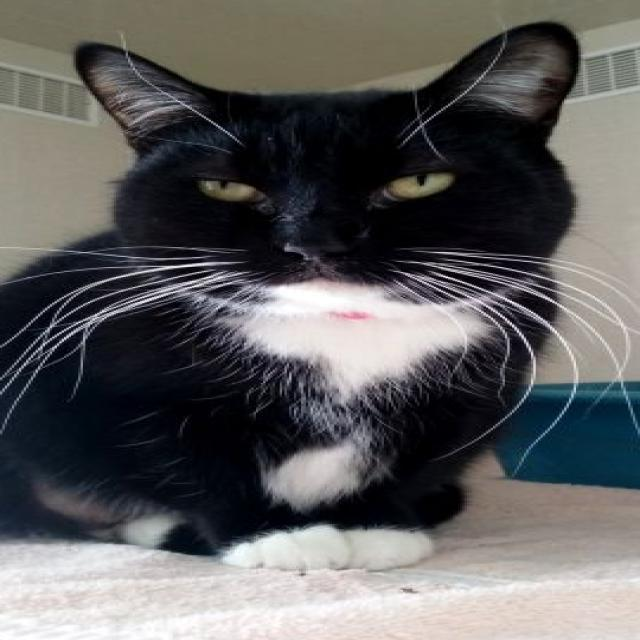Tuxedo: (0, 14, 595, 579)
